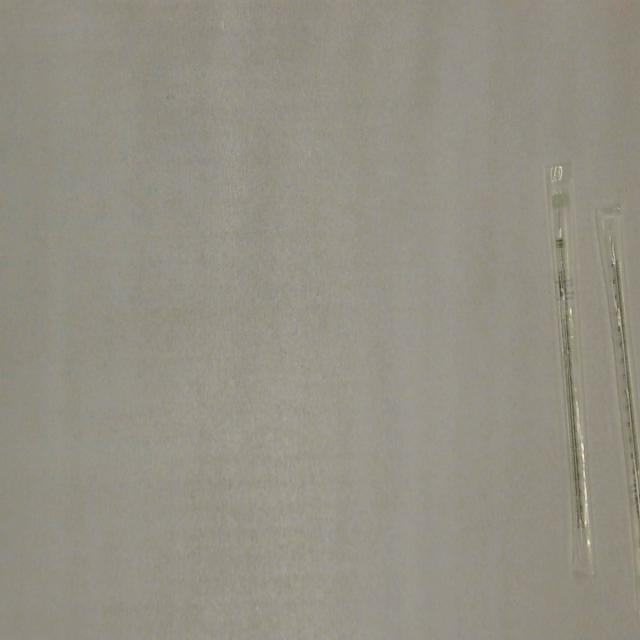Serelogical Pipet 2 mL - Sealed: (544, 153, 598, 581), (596, 200, 640, 576)
